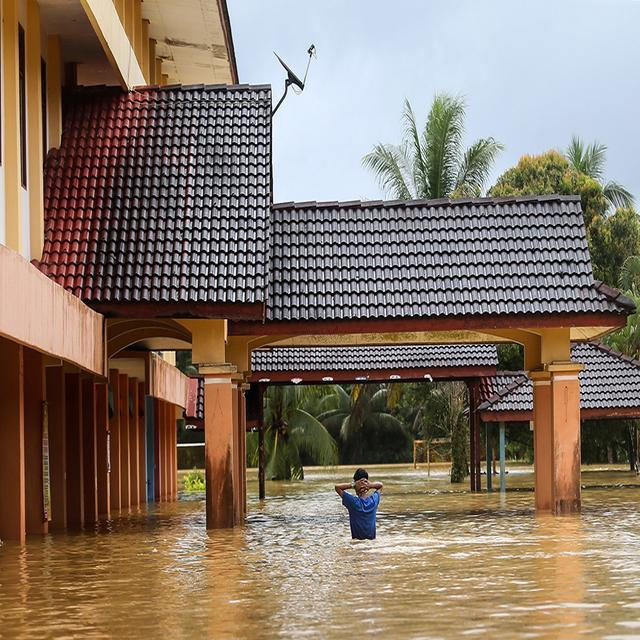Person-RiskLevel3: (331, 463, 399, 551)
